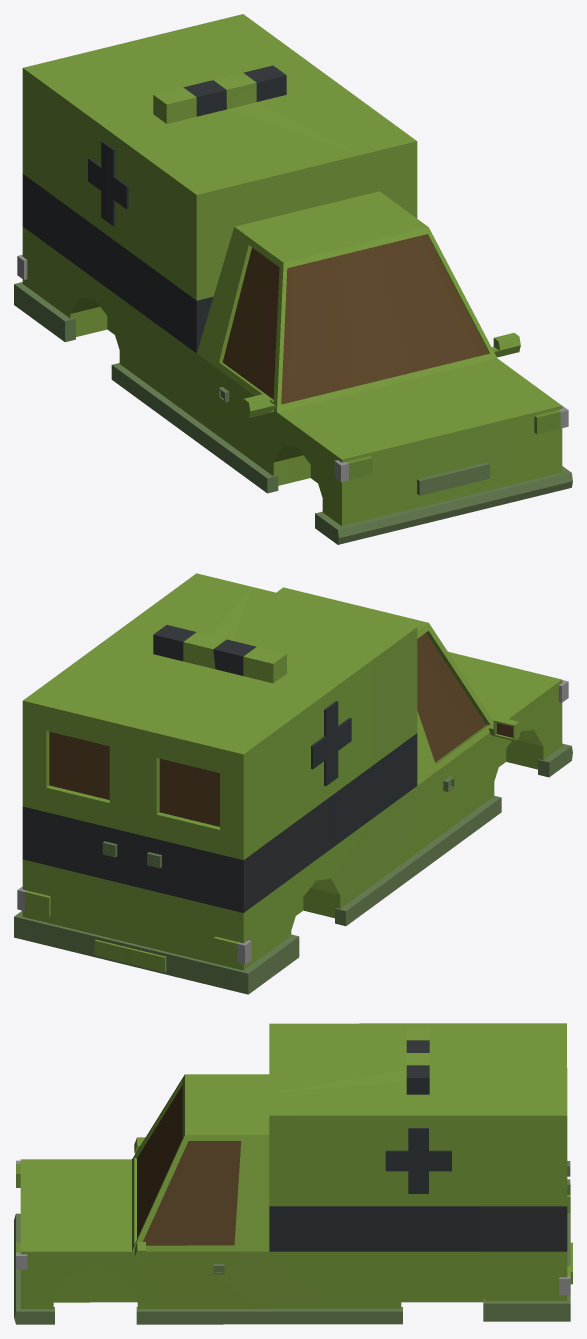
File: Car_11.fbx
3 views of the same model, one above another, from view 1: azimuth 30°, elevation 25°; view 2: azimuth 150°, elevation 25°; view 3: azimuth 270°, elevation 25° (orthographic). The views are drawn at different scales.
Visible parts, largest first — view 1: Car_11; view 2: Car_11; view 3: Car_11.
Part boxes in pixels (box(x1,y1,x2,y2)): Car_11: box(14, 14, 572, 544); Car_11: box(14, 573, 572, 994); Car_11: box(14, 1023, 572, 1324).
Bounding box in the file's own units: 1.97 × 1.8 × 4.11.
